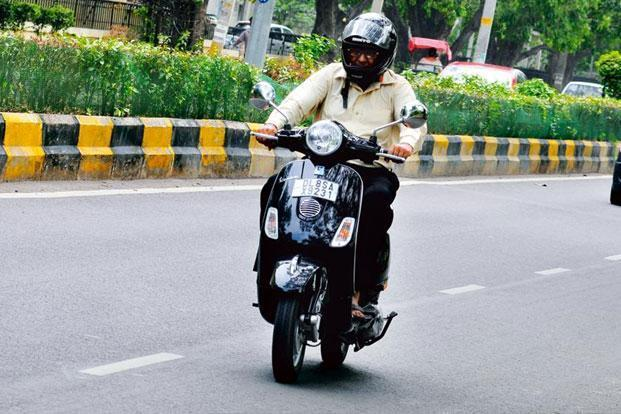number_plate: (285, 177, 343, 202)
